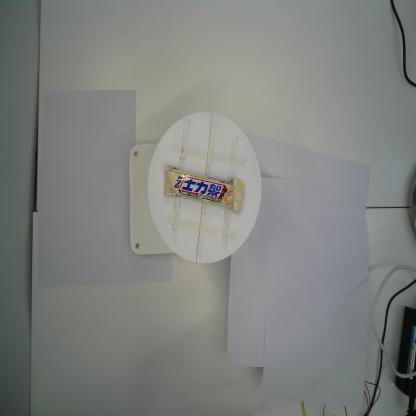Chocolate: (162, 164, 244, 216)
